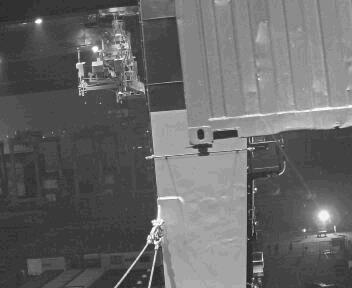twist_lock_1: (188, 141, 213, 160)
